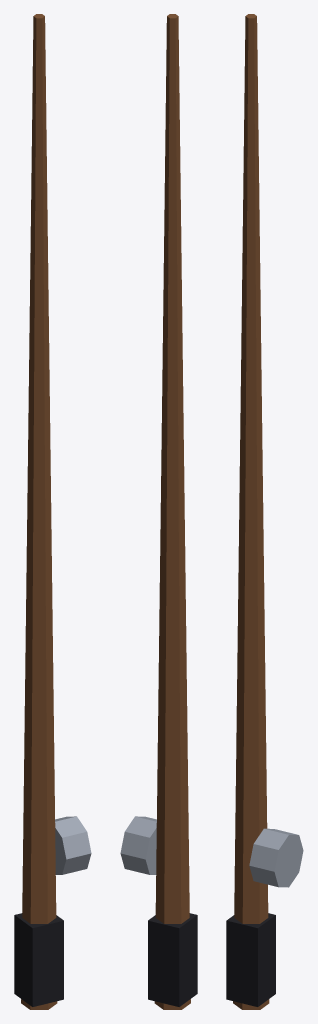
Rendered from tool_fishing_rod.glb.
3 views of the same model, side by side, from view 1: azimuth 30°, elevation 25°; view 2: azimuth 150°, elevation 25°; view 3: azimuth 330°, elevation 25° (orthographic).
Visible parts, largest first — view 1: tool_fishing_rod; view 2: tool_fishing_rod; view 3: tool_fishing_rod.
Part boxes in pixels (x1,y1,x2,y2): tool_fishing_rod: [14, 14, 91, 1009]; tool_fishing_rod: [120, 14, 197, 1009]; tool_fishing_rod: [226, 14, 303, 1009].
Bounding box in the file's own units: 0.085 × 1.5 × 0.08.
